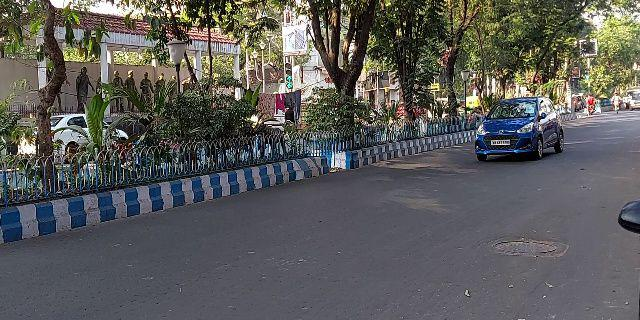Car: (473, 93, 566, 162)
